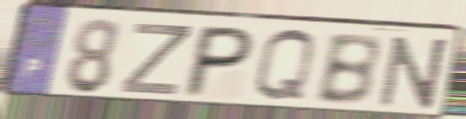8: (64, 16, 121, 97)
B: (312, 32, 383, 108)
N: (375, 34, 452, 110)
P: (178, 23, 260, 100)
Q: (251, 26, 319, 105)
Z: (117, 20, 194, 98)
